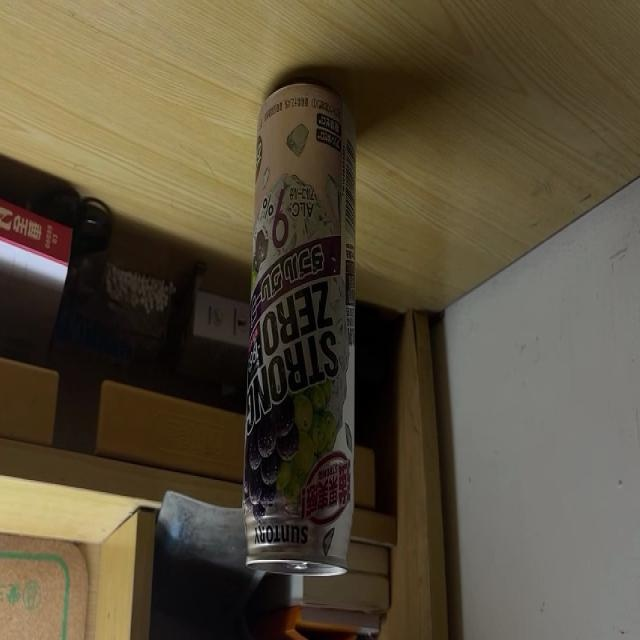Liquor: (244, 75, 355, 579)
